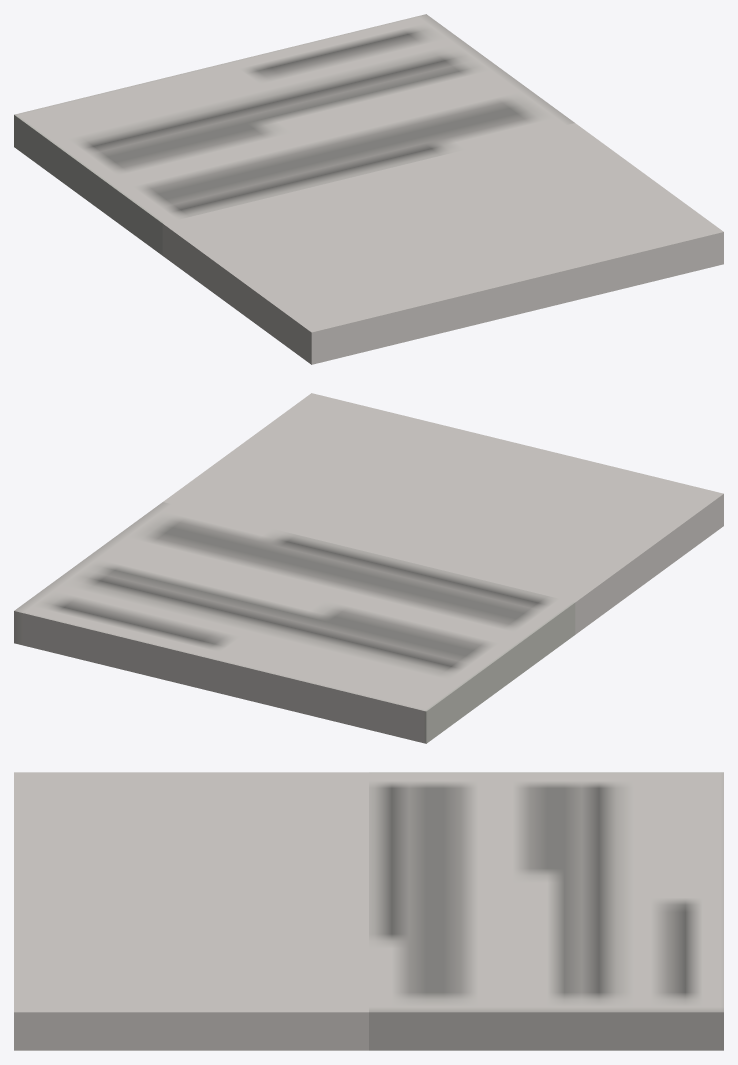
File: SM_Props_Interior_Generic_Office_Paper_01.fbx
3 renders of one model, top to bottom at view 1: azimuth 30°, elevation 25°; view 2: azimuth 150°, elevation 25°; view 3: azimuth 270°, elevation 25°, orthographic. The views are drawn at different scales.
Parts seen in each view (by area): view 1: SM_Props_Interior_Generic_Office_Paper_01; view 2: SM_Props_Interior_Generic_Office_Paper_01; view 3: SM_Props_Interior_Generic_Office_Paper_01.
Boxes of the visible parts, left/top/right/bottom form: SM_Props_Interior_Generic_Office_Paper_01: left=14, top=14, right=723, bottom=364; SM_Props_Interior_Generic_Office_Paper_01: left=14, top=393, right=723, bottom=743; SM_Props_Interior_Generic_Office_Paper_01: left=14, top=772, right=723, bottom=1050.
Bounding box in the file's own units: 40 × 3 × 50.
